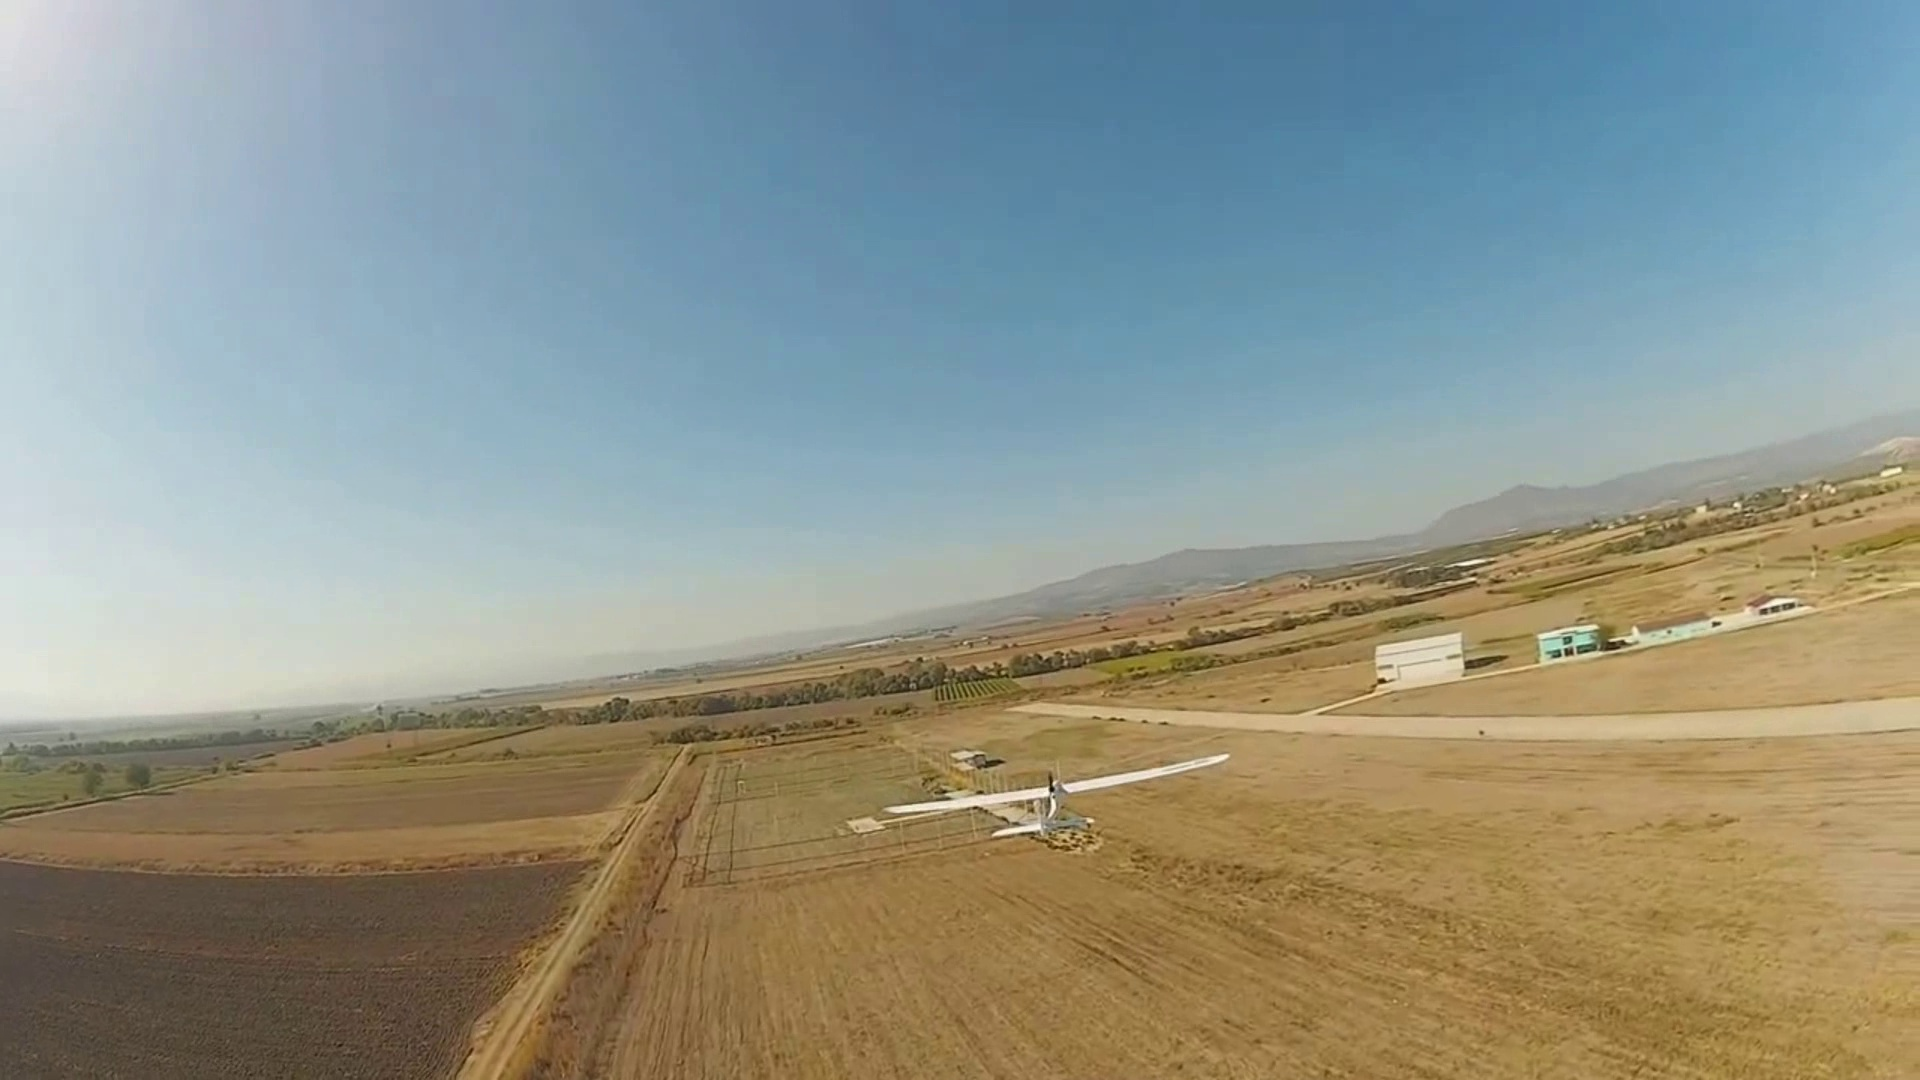airplane: (873, 744, 1232, 847)
